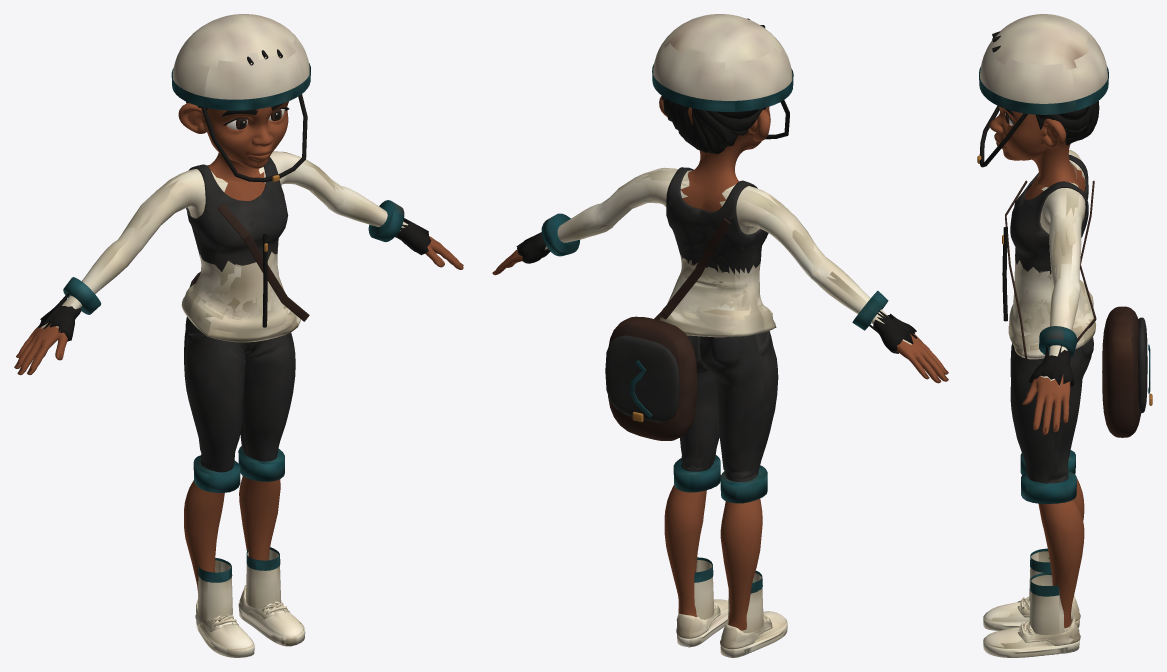
The model's file is rival-v1-static.glb.
3 renders of one model, left to right at view 1: azimuth 30°, elevation 25°; view 2: azimuth 150°, elevation 25°; view 3: azimuth 270°, elevation 25°, orthographic.
Visible parts, largest first — view 1: RivalV1.StaticVisualCheckpoint; view 2: RivalV1.StaticVisualCheckpoint; view 3: RivalV1.StaticVisualCheckpoint.
Boxes of the visible parts, x1=… form: RivalV1.StaticVisualCheckpoint: x1=14, y1=14, x2=463, y2=657; RivalV1.StaticVisualCheckpoint: x1=492, y1=14, x2=948, y2=657; RivalV1.StaticVisualCheckpoint: x1=977, y1=14, x2=1152, y2=657.
Size of the model in its own units: 1.12 by 1.46 by 0.3761.
Materials: 10 (5 with a texture image).
